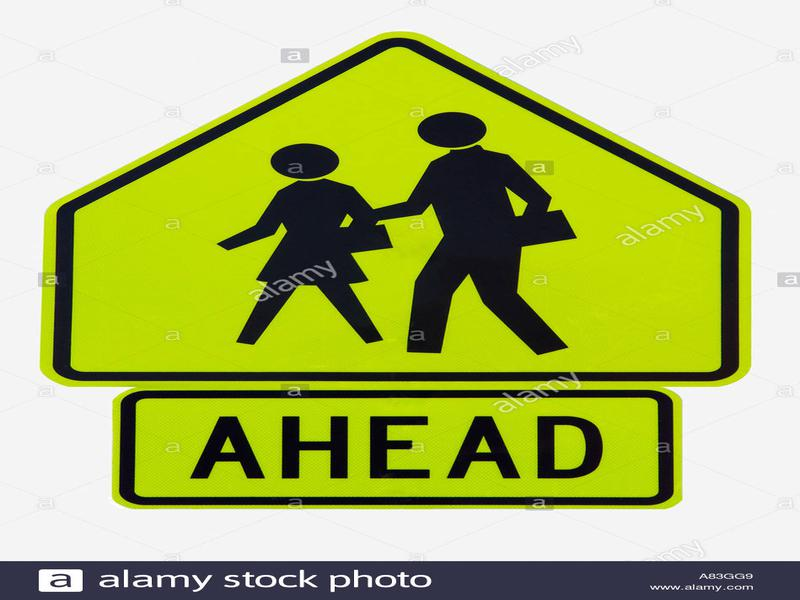slow: (35, 29, 757, 387)
